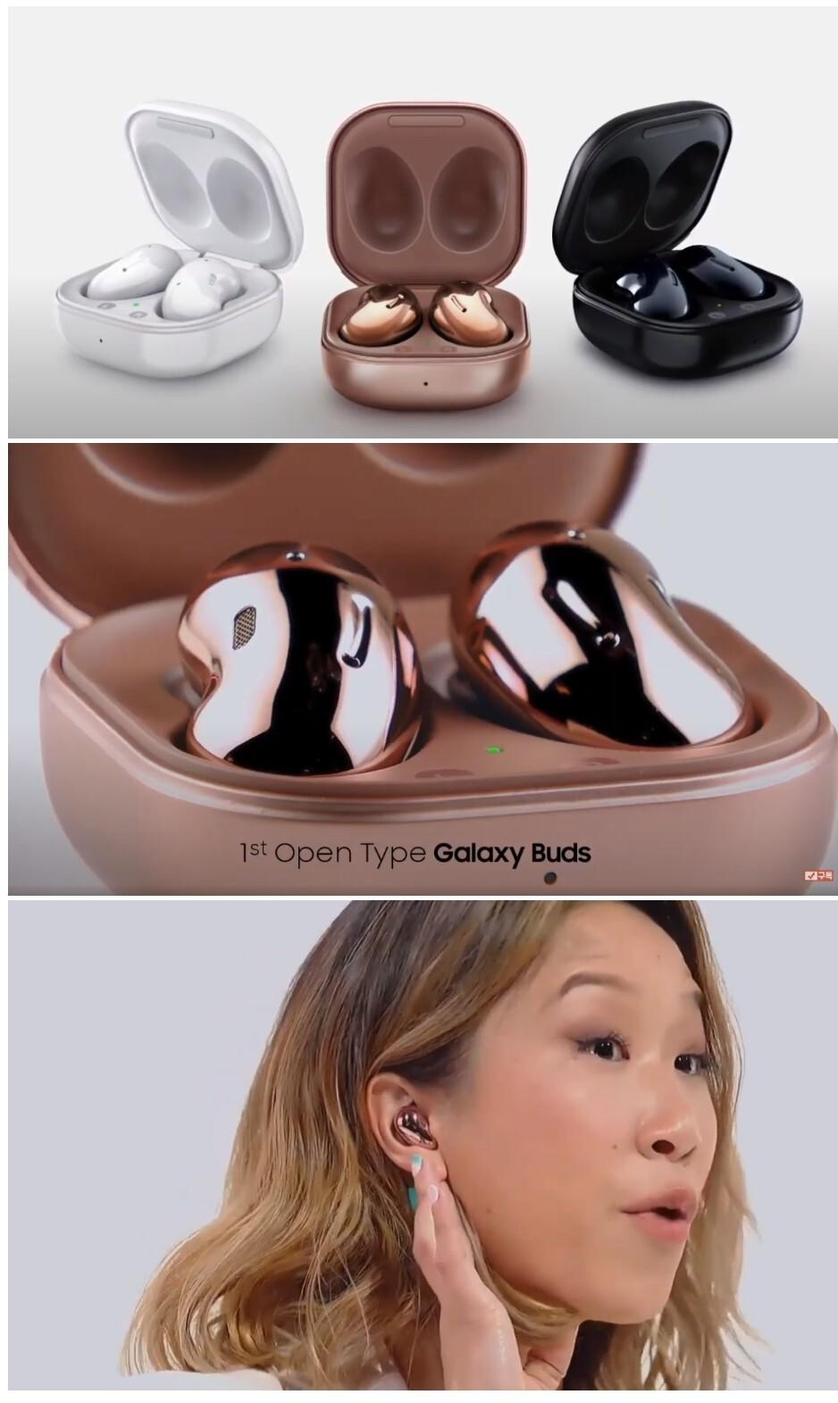earphone: (374, 1103, 442, 1150)
